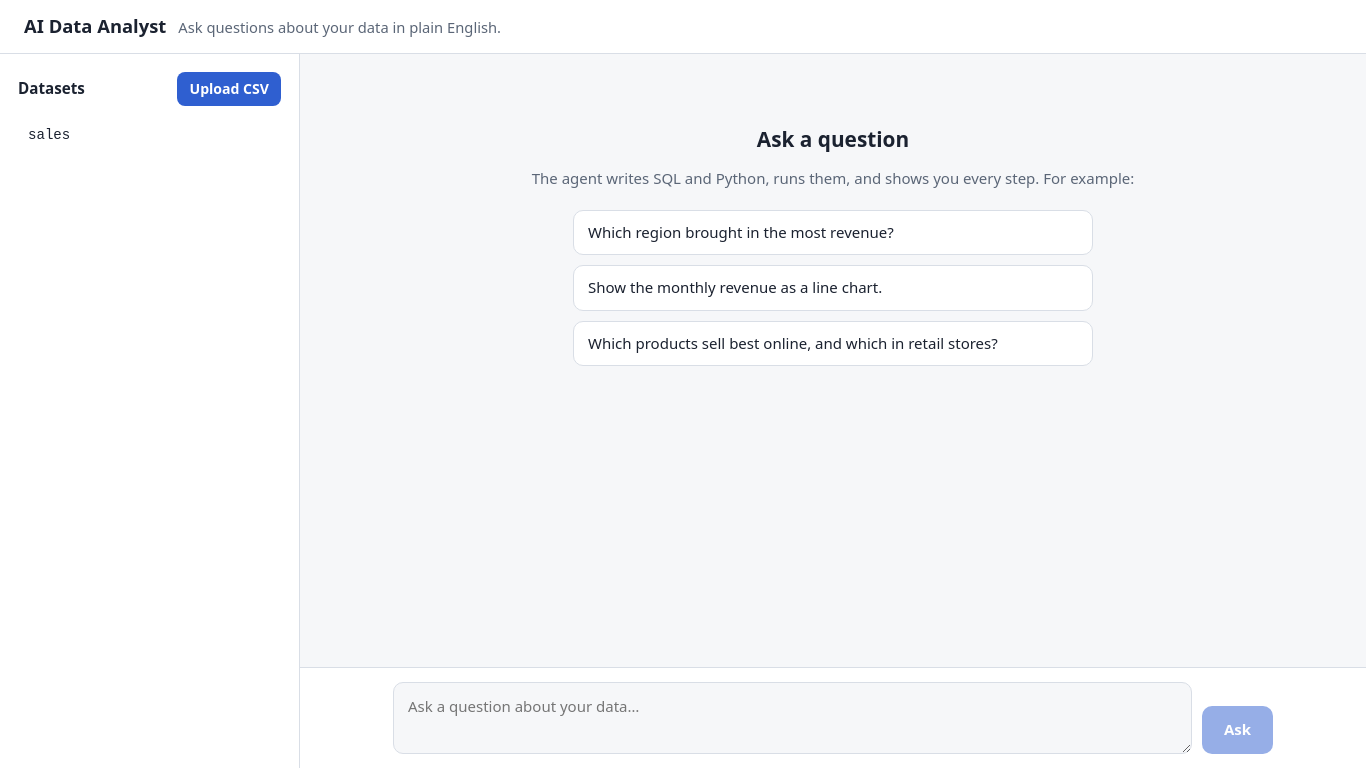
Scenario: AnalystApp › stops a running question, and then answers the next one
Expected: the button "sales" is shown, [18,118,281,153]
Type "Who sold most?" into the text box named "Your question".
click(792, 718); type("Who sold most?")  # box [393,682,1192,754]
Then press Enter
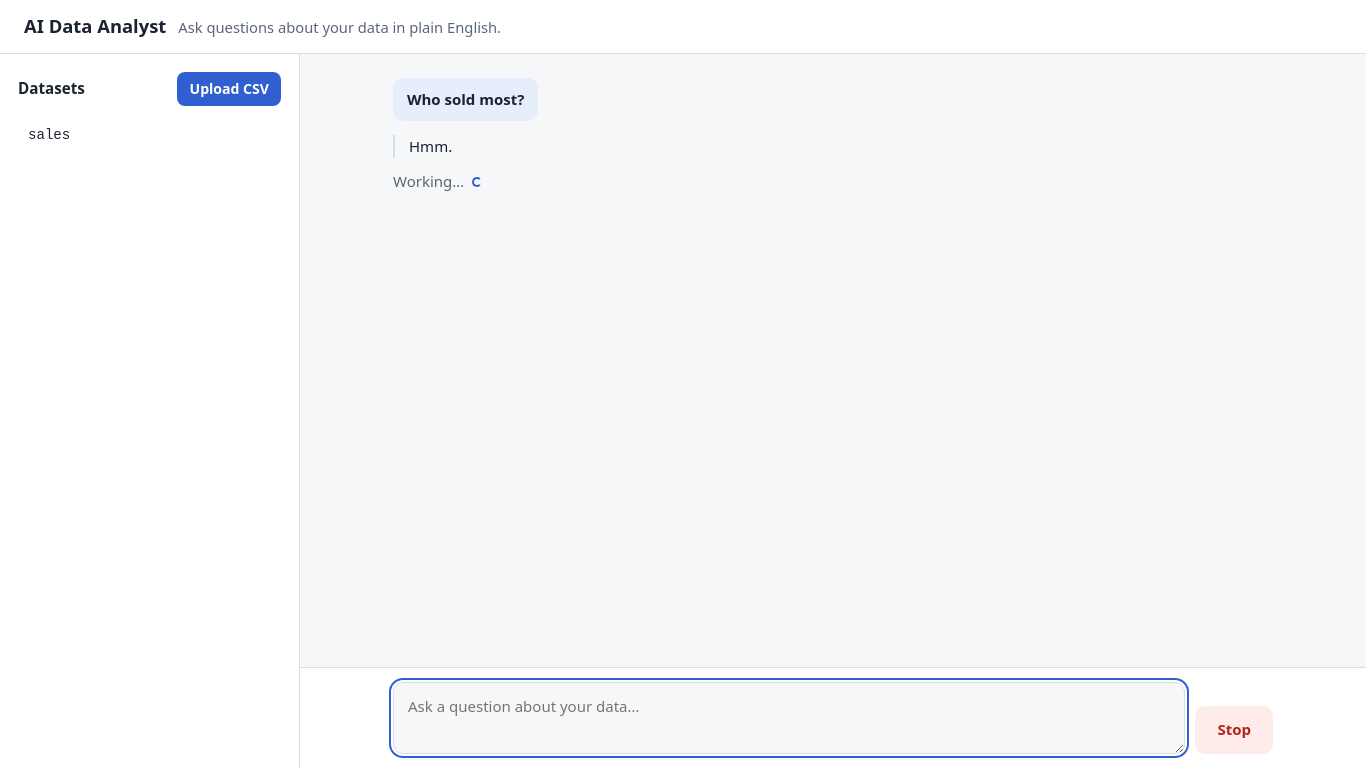
Expected: the text "Hmm." is shown, [409,136,452,156]
Click the button "Stop".
click(1234, 730)  # box [1195,706,1273,754]
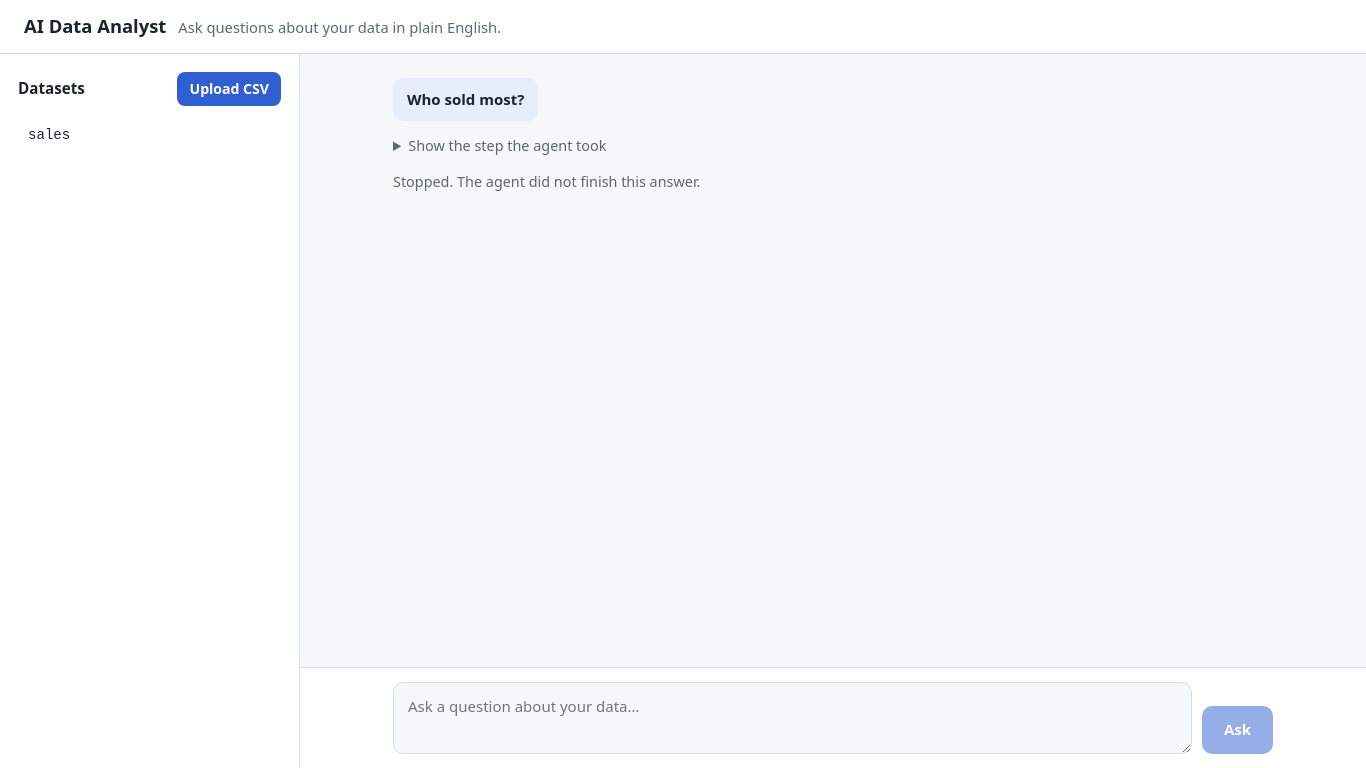
Expected: the text "Stopped. The agent did not finish this answer." is shown, [393,172,700,191]
Type "And now?" into the text box named "Your question".
click(792, 718); type("And now?")  # box [393,682,1192,754]
Then press Enter
(page scrolled)
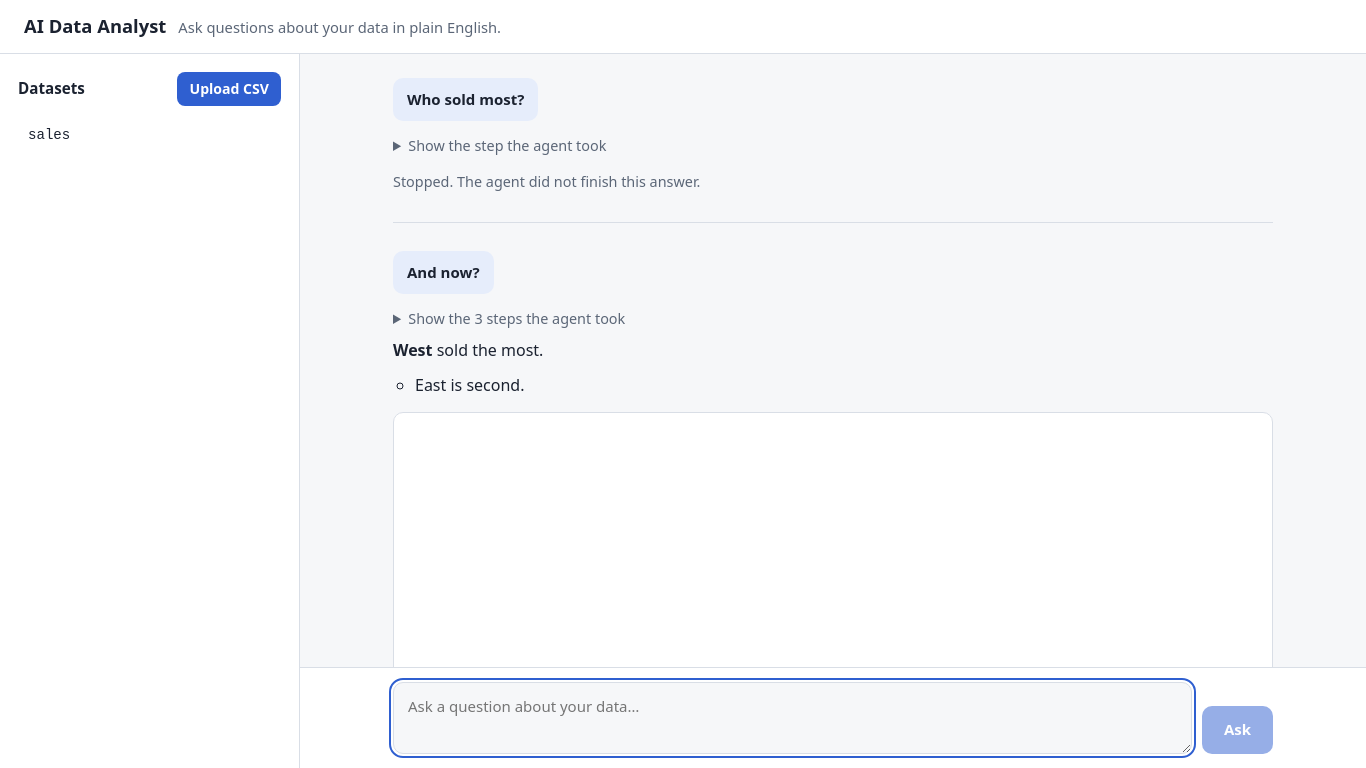
Expected: the text "Stopped. The agent did not finish this answer." is shown, [393,172,700,191]
Expected: the text "West" is shown, [393,339,432,361]
